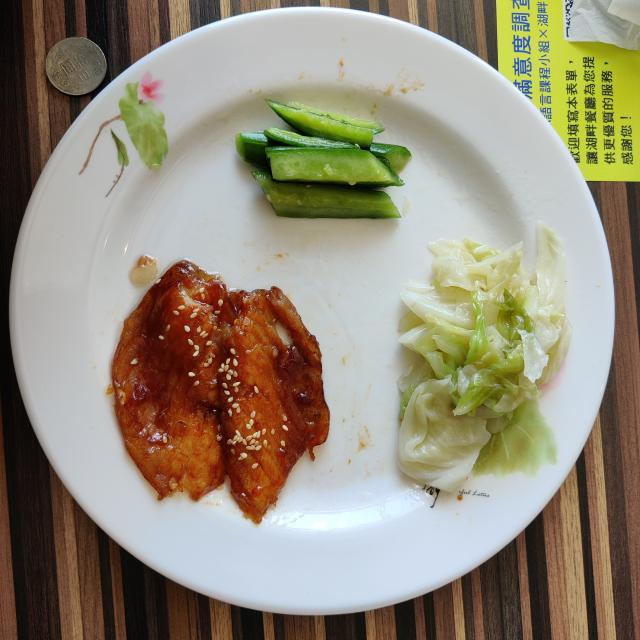Kabayaki sea bream fillet: (112, 260, 330, 522)
cabbage: (400, 224, 571, 490)
coin: (46, 38, 106, 95)
cucumber: (236, 100, 411, 219)
